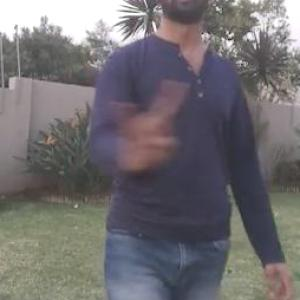takeoff-hand: (105, 86, 183, 174)
